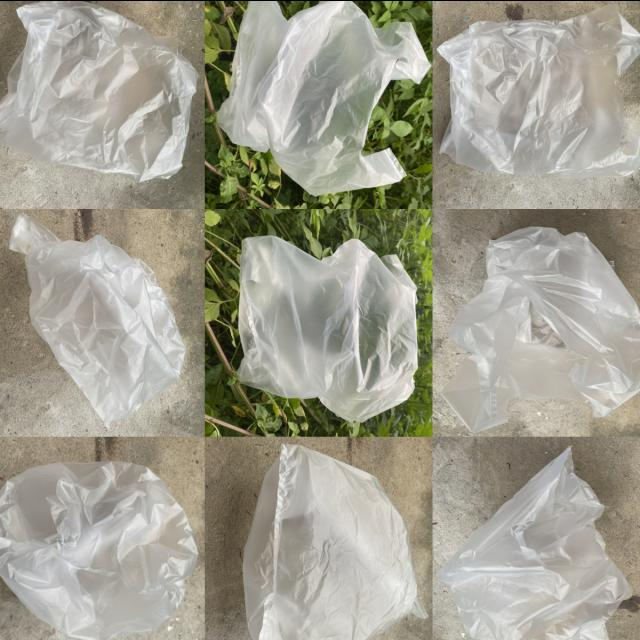plastik: (217, 0, 431, 194), (442, 226, 640, 431), (9, 212, 185, 426), (438, 446, 632, 640), (243, 443, 428, 640), (0, 0, 197, 180), (437, 4, 640, 178), (0, 461, 197, 640), (239, 235, 417, 421)
